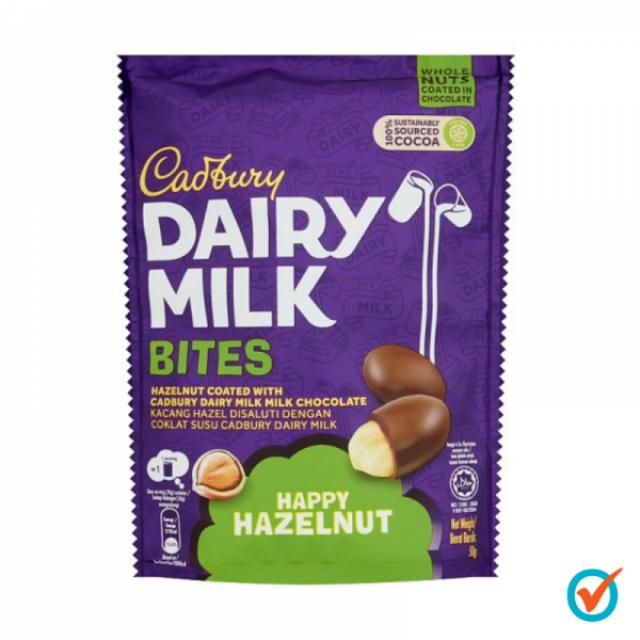cadbury: (116, 60, 496, 573), (145, 150, 288, 190)
